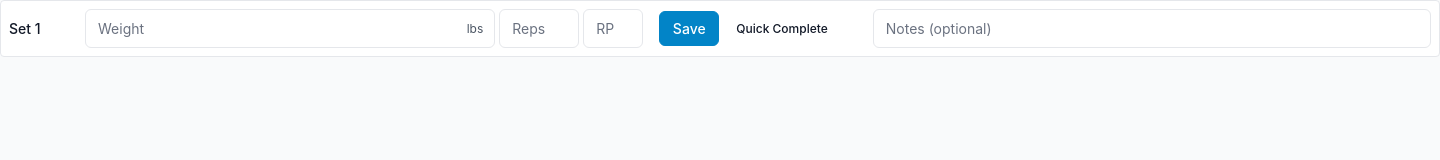
Test: SetInput › validates RPE input
Type "11" into the number field with placeholder "RPE". click: (613, 28)
box: [583, 9, 643, 48]
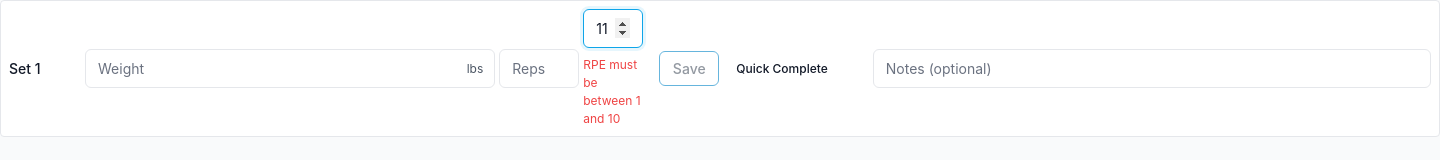
Expected: the text "RPE must be between 1 and 10" is shown, [583, 56, 643, 128]
